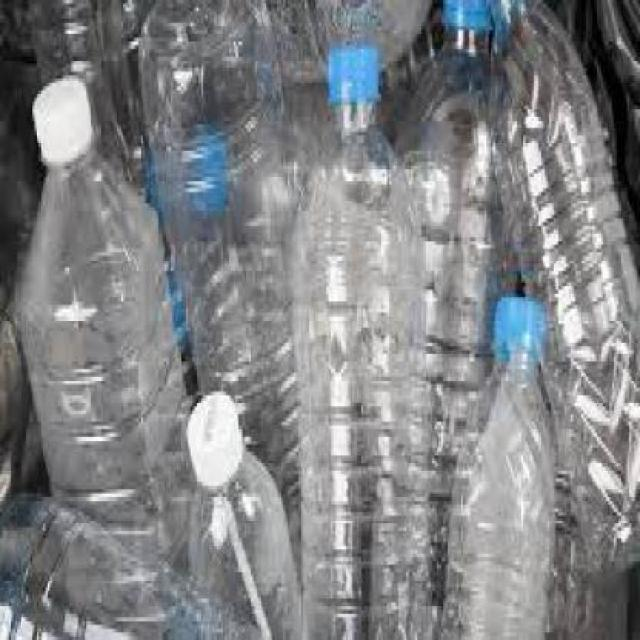PLASTIC: (2, 0, 640, 637), (19, 68, 190, 637), (140, 0, 297, 585), (487, 0, 638, 578), (298, 34, 437, 637), (398, 0, 520, 637), (31, 0, 203, 408), (445, 290, 586, 636), (2, 486, 261, 636), (190, 388, 301, 637), (568, 0, 638, 269), (545, 436, 629, 636), (279, 0, 434, 75), (3, 91, 43, 335), (2, 309, 50, 493), (2, 0, 45, 195), (34, 72, 98, 162), (191, 388, 246, 489), (176, 128, 230, 203), (495, 286, 551, 357), (331, 38, 383, 102), (445, 0, 498, 31)
